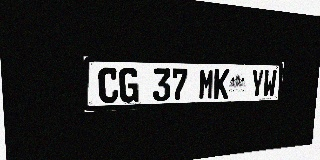3: (153, 68, 171, 101)
7: (171, 68, 188, 101)
C: (98, 67, 119, 104)
G: (119, 68, 139, 103)
K: (214, 69, 229, 99)
M: (198, 69, 214, 100)
W: (263, 70, 277, 97)
Y: (250, 69, 264, 98)
